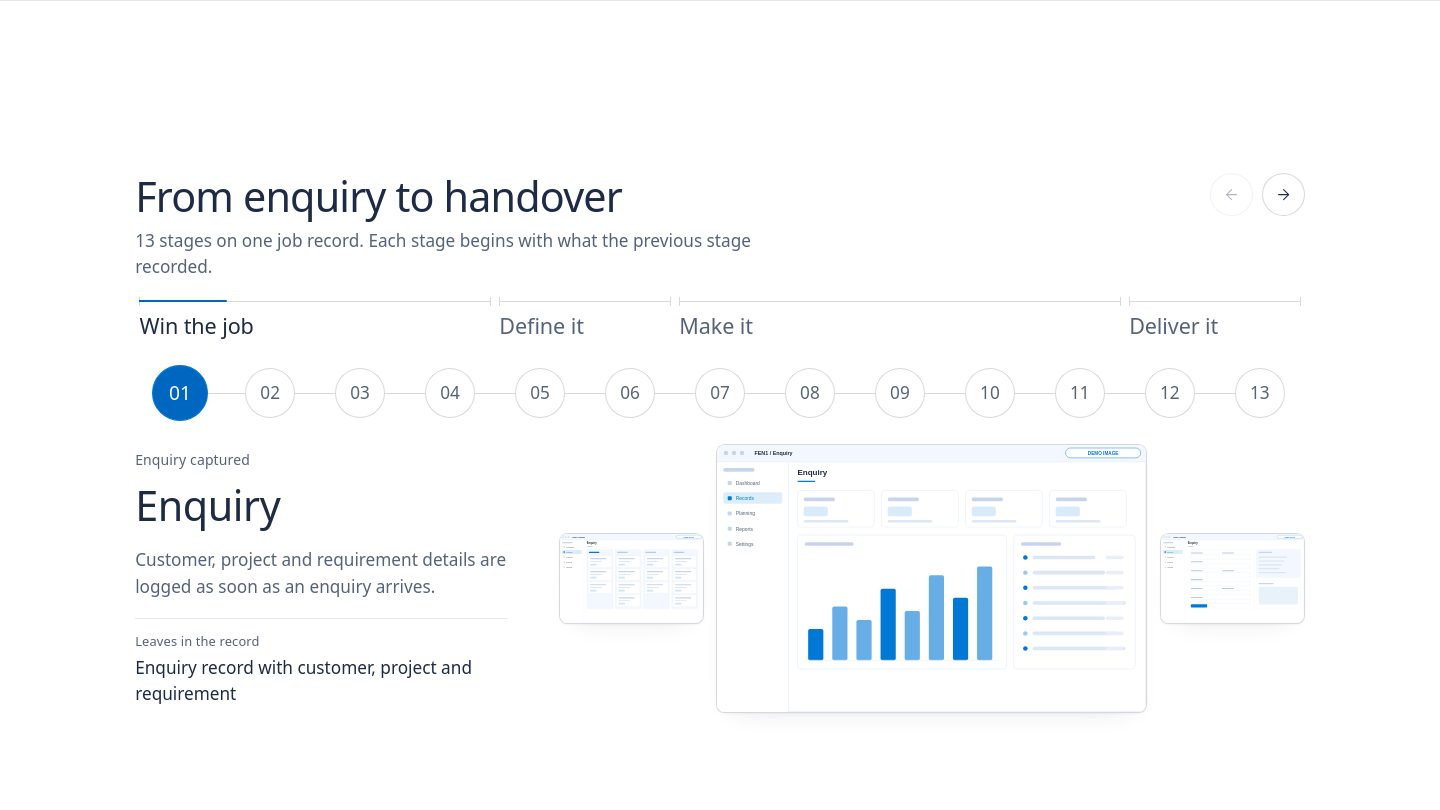
Test case: Workflow (scroll-driven) › closes with Close, Escape or a click outside, gives the page its scrolling back and returns focus to the screen
Click the button named "screen 1 of 3: open details". click: (932, 578)
box: left=716, top=443, right=1147, bottom=712
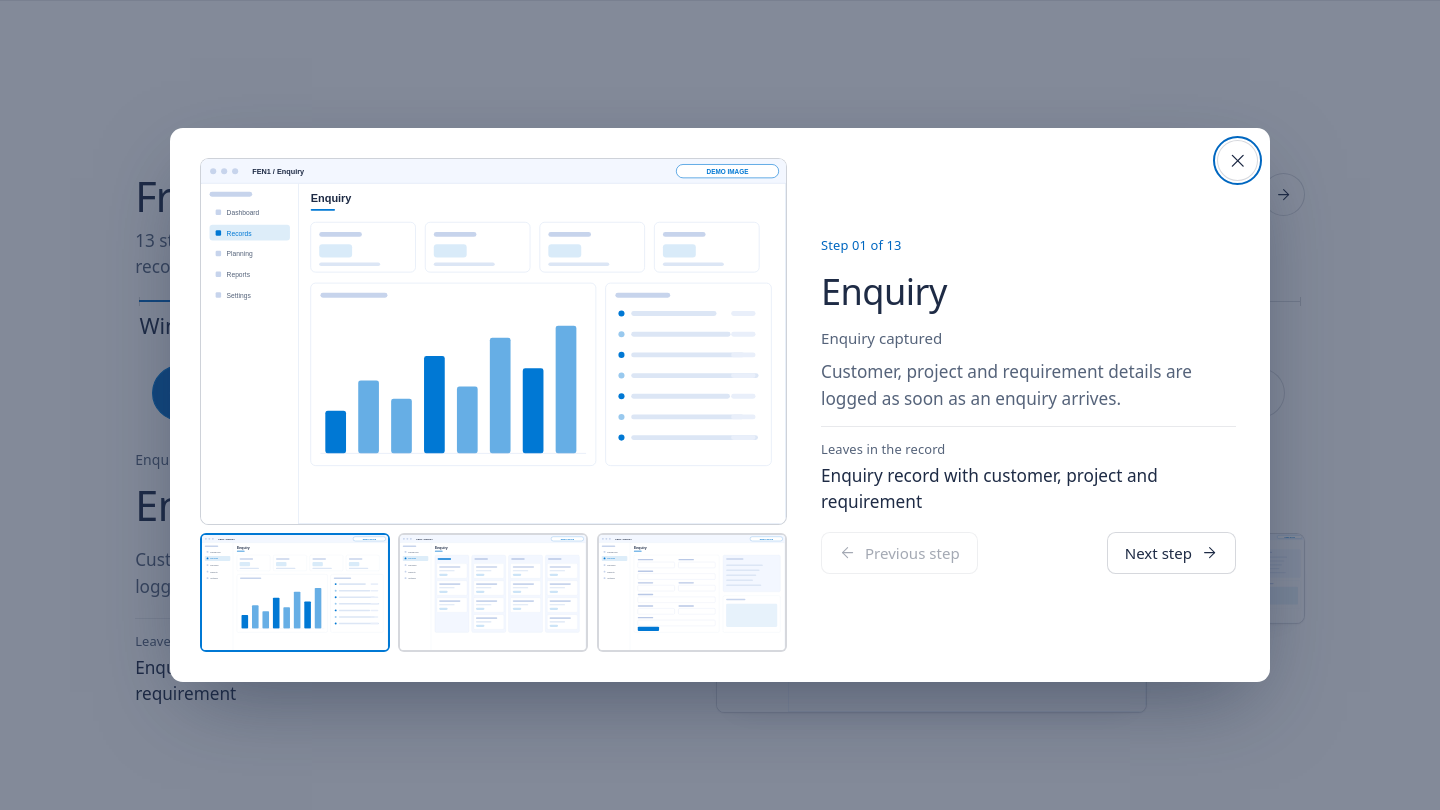
Click the button named "Close". click: (1238, 161)
box: left=1217, top=140, right=1258, bottom=181
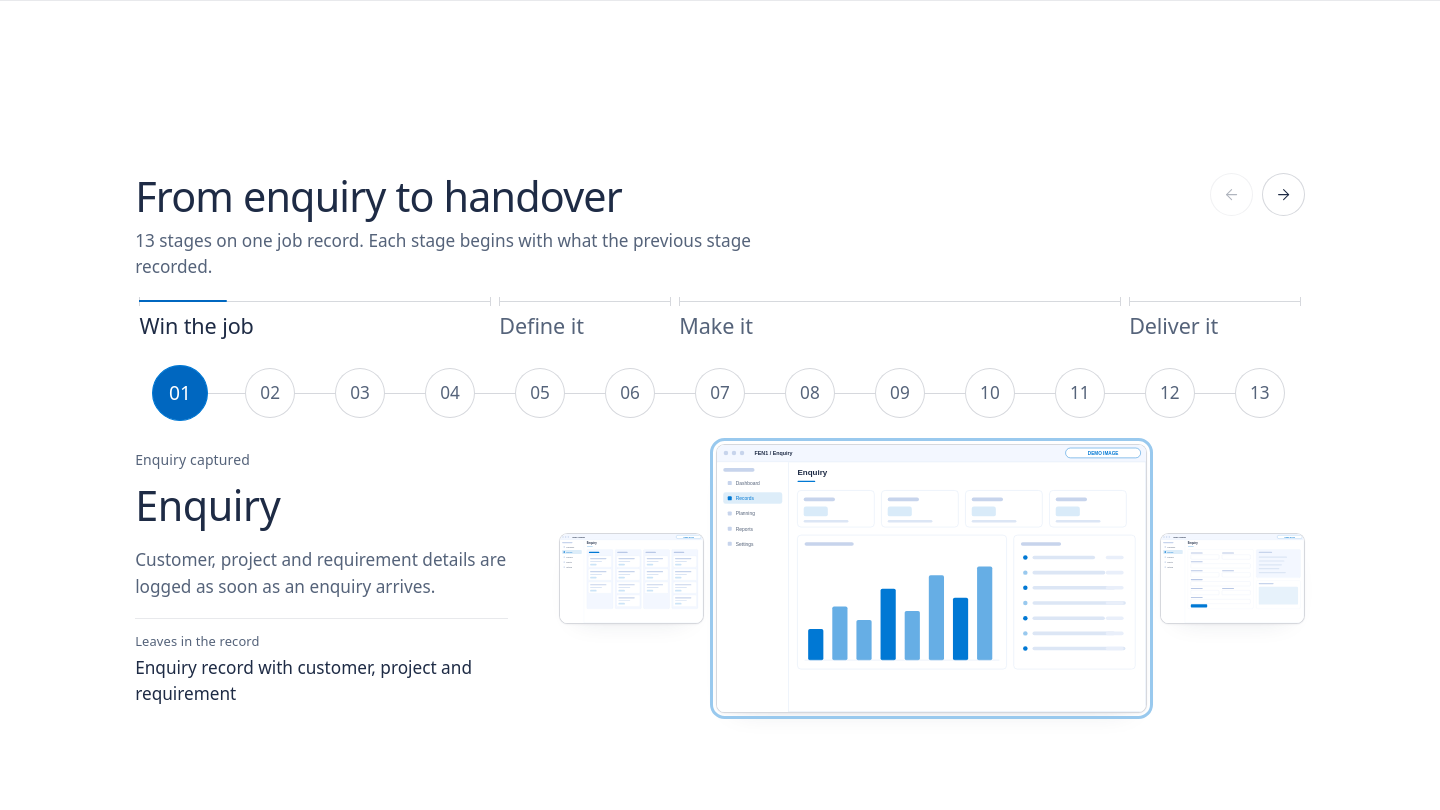
expect the dialog is gone: met
Click the button named "screen 1 of 3: open details". click: (932, 578)
box: left=716, top=443, right=1147, bottom=712
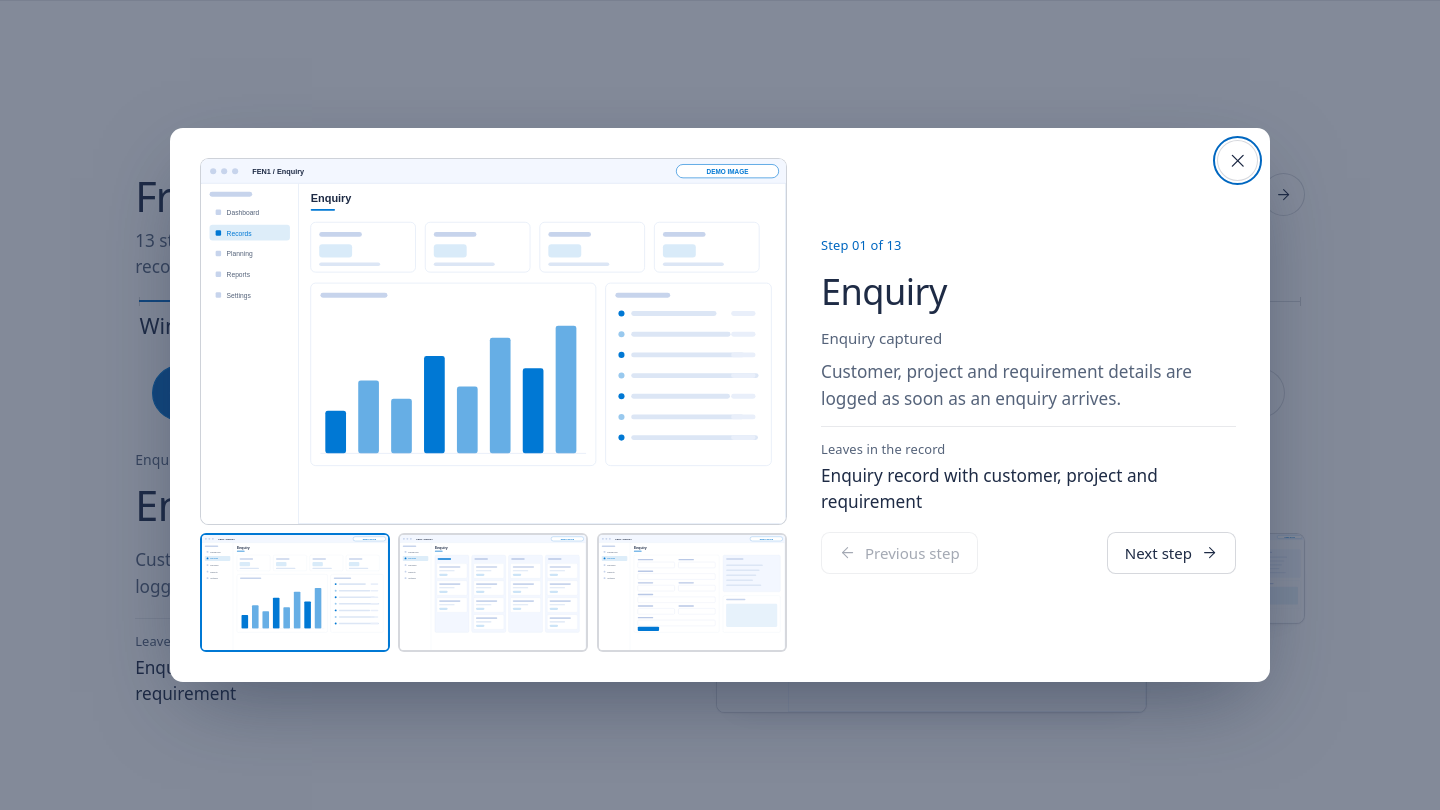
Press Escape
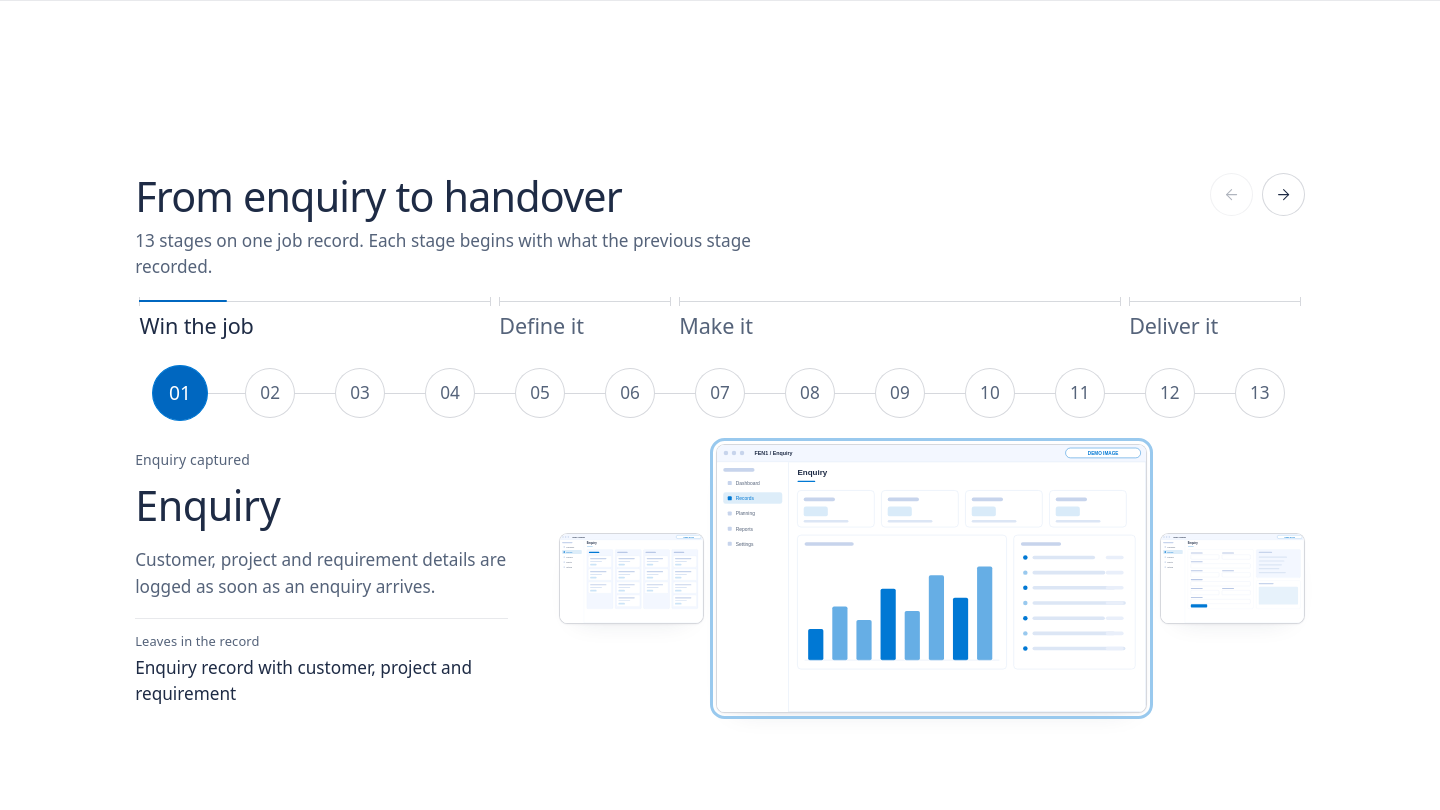
expect the dialog is gone: met
Click the button named "screen 1 of 3: open details". click: (932, 578)
box: left=716, top=443, right=1147, bottom=712
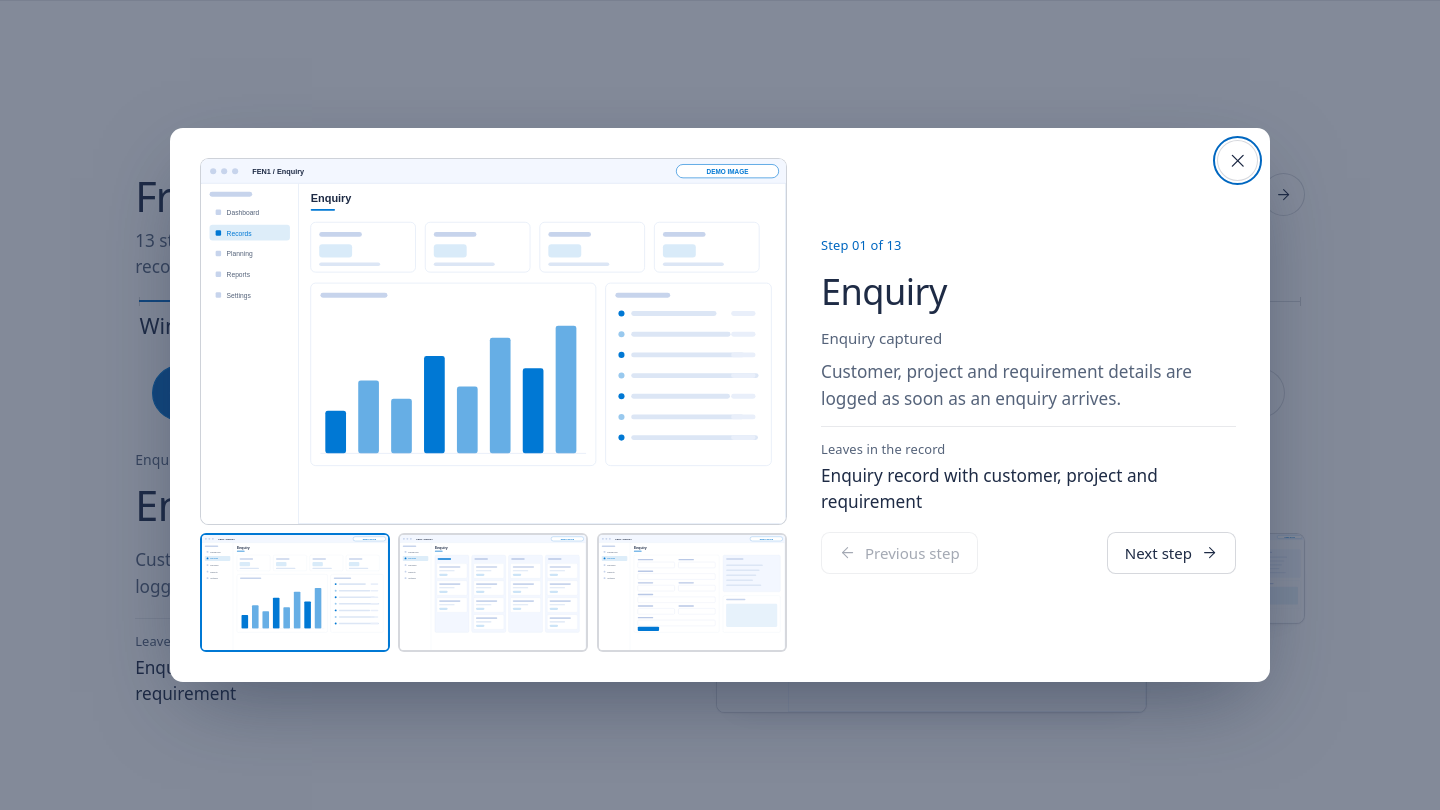
Click the element with class "flow-overlay". click: (86, 405)
box: left=0, top=0, right=1439, bottom=809
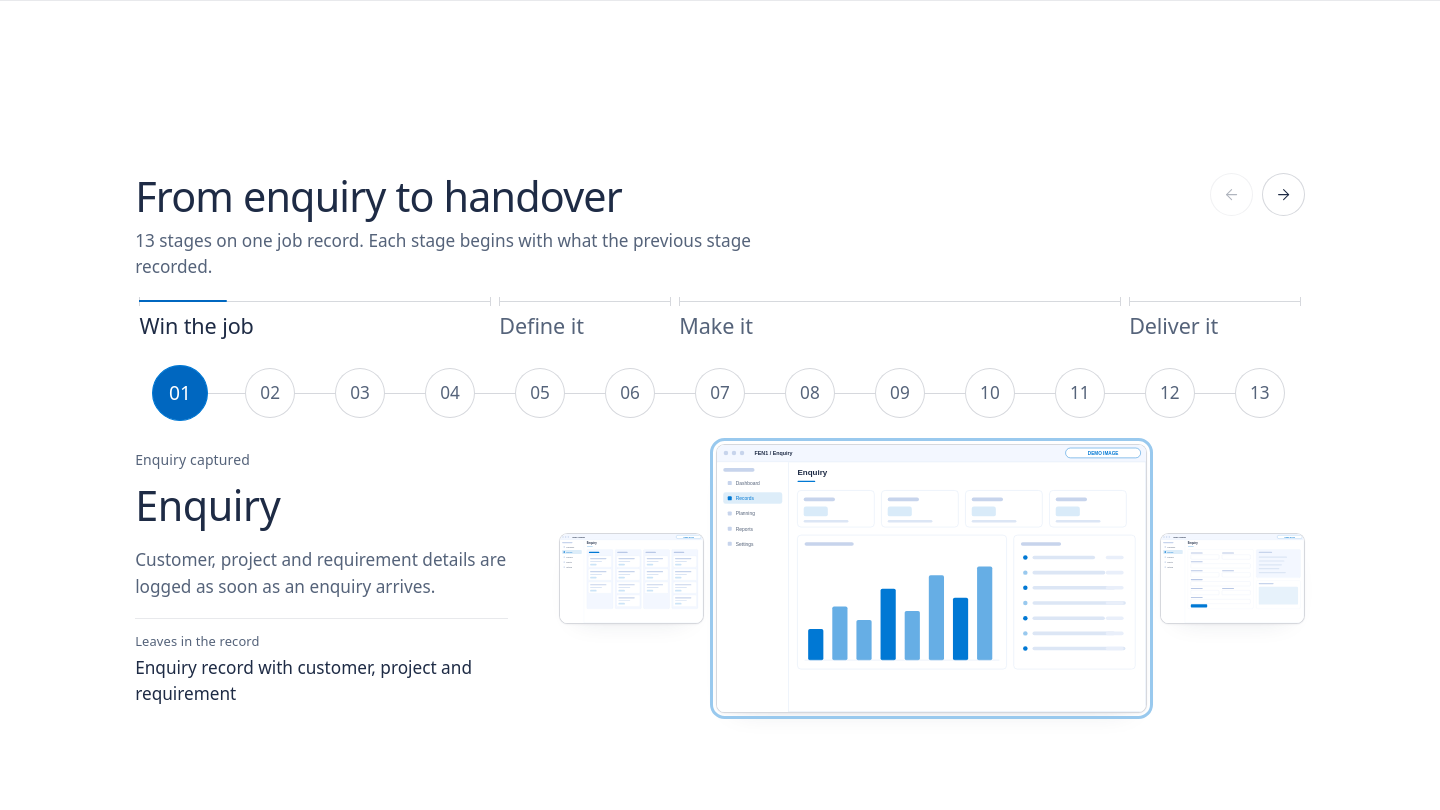
expect the dialog is gone: met
